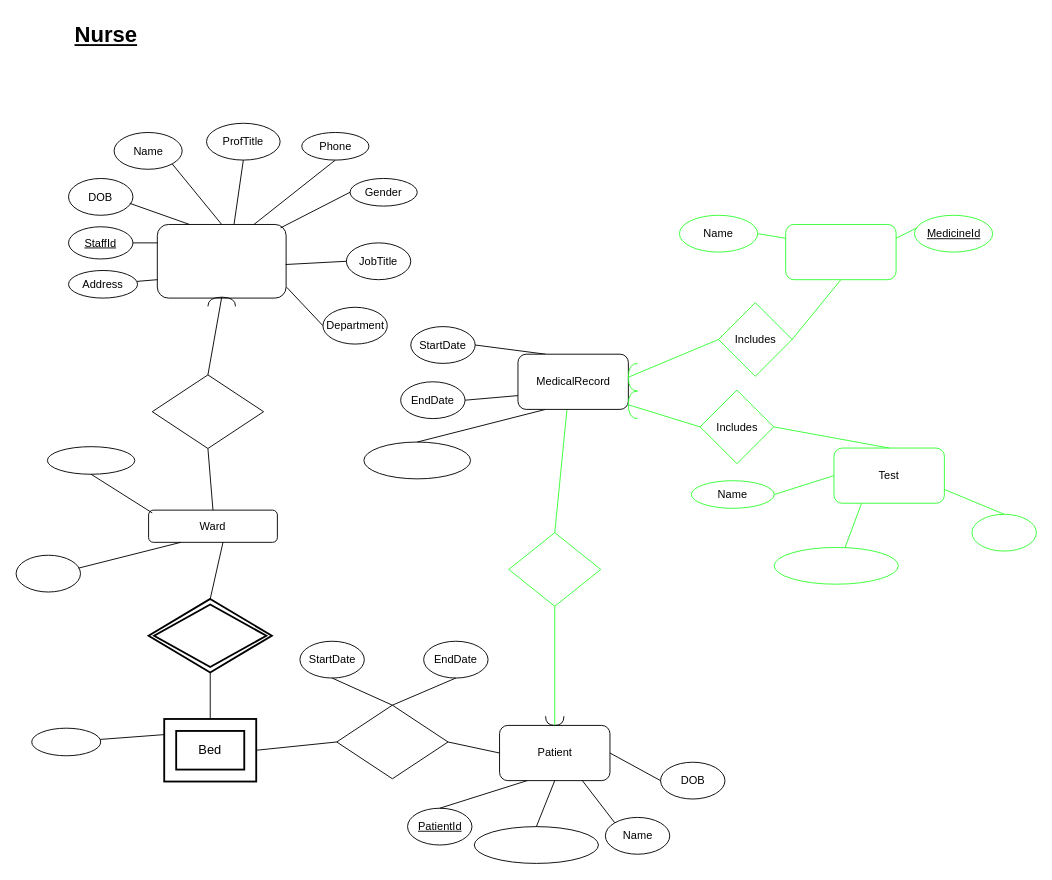
Image size: 1052x880. Some labels were removed from this diagram. Here are the shapes that lost their labels. From the top down, the centre of each, then its label:
At point (221, 261): "Staff".
At point (840, 252): "Medicine".
At point (207, 411): "Responsible For".
At point (90, 460): "WardNumber".
At point (417, 460): "MedicalRecordId".
At point (1003, 532): "TestID".
At point (47, 573): "Capacity".
At point (554, 569): "Associated With".
At point (835, 565): "DiagnosticResult".
At point (209, 635): "Has".
At point (66, 741): "BedId".
At point (392, 741): "Assigned To".
At point (535, 844): "TreatmentStatus".
